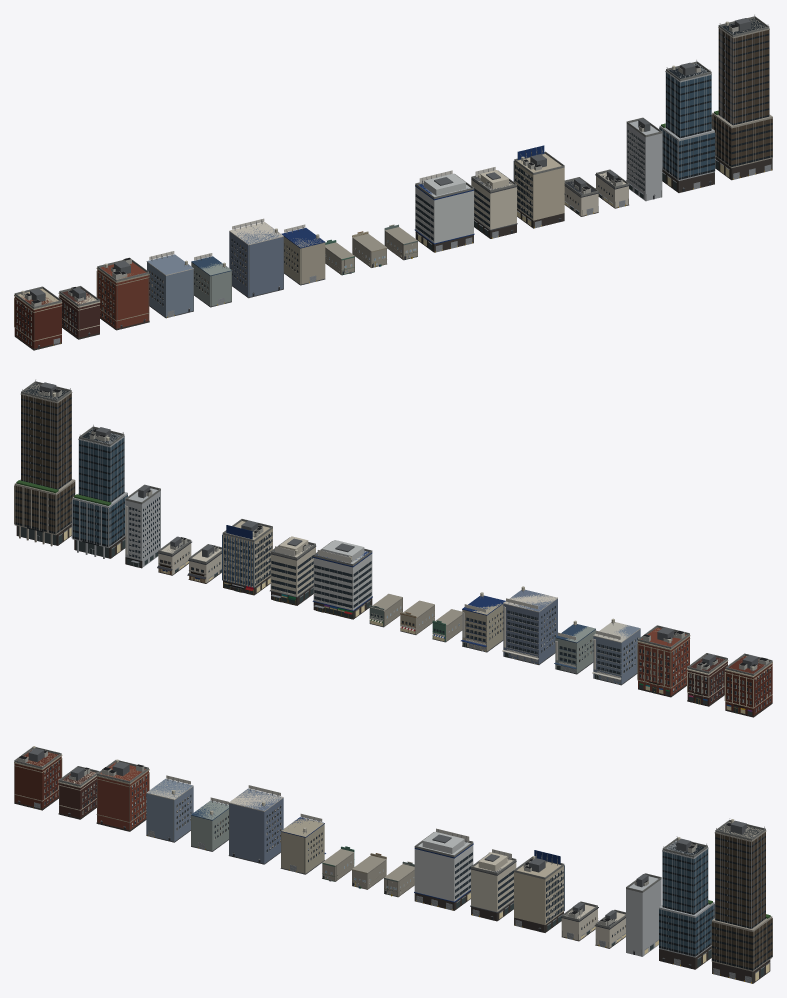
File: aizomefront.glb
The picture shows the model from 3 angles, top to bottom: view 1: azimuth 30°, elevation 25°; view 2: azimuth 150°, elevation 25°; view 3: azimuth 330°, elevation 25°; orthographic projection.
Parts seen in each view (by area): view 1: aizomefront_tower_b_body, aizomefront_tower_a_body, aizomefront_ribbon_a_body, aizomefront_tonya_c_body, aizomefront_seni_a_body, aizomefront_brick_c_body, aizomefront_hotel_a_body, aizomefront_ribbon_b_body, aizomefront_brick_a_body, aizomefront_tonya_a_body, aizomefront_tonya_d_body, aizomefront_brick_b_body (+6 smaller); view 2: aizomefront_tower_b_body, aizomefront_tower_a_body, aizomefront_ribbon_a_body, aizomefront_tonya_c_body, aizomefront_seni_a_body, aizomefront_brick_c_body, aizomefront_hotel_a_body, aizomefront_ribbon_b_body, aizomefront_brick_a_body, aizomefront_tonya_a_body, aizomefront_tonya_d_body, aizomefront_brick_b_body (+6 smaller); view 3: aizomefront_tower_b_body, aizomefront_tower_a_body, aizomefront_ribbon_a_body, aizomefront_tonya_c_body, aizomefront_seni_a_body, aizomefront_brick_c_body, aizomefront_ribbon_b_body, aizomefront_tonya_a_body, aizomefront_brick_a_body, aizomefront_hotel_a_body, aizomefront_tonya_d_body, aizomefront_brick_b_body (+6 smaller).
Part boxes in pixels (bbox=[...]): aizomefront_tower_b_body: bbox=[711, 14, 772, 180]; aizomefront_tower_a_body: bbox=[659, 59, 715, 192]; aizomefront_ribbon_a_body: bbox=[414, 170, 474, 252]; aizomefront_tonya_c_body: bbox=[229, 218, 283, 298]; aizomefront_seni_a_body: bbox=[513, 145, 564, 228]; aizomefront_brick_c_body: bbox=[96, 257, 149, 330]; aizomefront_hotel_a_body: bbox=[626, 117, 662, 201]; aizomefront_ribbon_b_body: bbox=[471, 167, 517, 238]; aizomefront_brick_a_body: bbox=[14, 286, 62, 350]; aizomefront_tonya_a_body: bbox=[146, 251, 193, 318]; aizomefront_tonya_d_body: bbox=[281, 224, 325, 285]; aizomefront_brick_b_body: bbox=[58, 286, 100, 339]; aizomefront_tower_b_body: bbox=[14, 379, 75, 546]; aizomefront_tower_a_body: bbox=[71, 424, 127, 558]; aizomefront_ribbon_a_body: bbox=[312, 540, 372, 619]; aizomefront_tonya_c_body: bbox=[502, 586, 557, 664]; aizomefront_seni_a_body: bbox=[222, 519, 272, 595]; aizomefront_brick_c_body: bbox=[637, 625, 690, 697]; aizomefront_hotel_a_body: bbox=[125, 484, 160, 568]; aizomefront_ribbon_b_body: bbox=[270, 536, 316, 605]; aizomefront_brick_a_body: bbox=[724, 653, 772, 717]; aizomefront_tonya_a_body: bbox=[592, 618, 640, 685]; aizomefront_tonya_d_body: bbox=[461, 592, 505, 652]; aizomefront_brick_b_body: bbox=[686, 653, 728, 706]; aizomefront_tower_b_body: bbox=[711, 818, 772, 983]; aizomefront_tower_a_body: bbox=[659, 836, 714, 969]; aizomefront_ribbon_a_body: bbox=[414, 828, 473, 910]; aizomefront_tonya_c_body: bbox=[228, 785, 283, 864]; aizomefront_seni_a_body: bbox=[514, 850, 564, 932]; aizomefront_brick_c_body: bbox=[96, 759, 149, 831]; aizomefront_ribbon_b_body: bbox=[470, 849, 516, 921]; aizomefront_tonya_a_body: bbox=[146, 775, 193, 842]; aizomefront_brick_a_body: bbox=[14, 746, 62, 810]; aizomefront_hotel_a_body: bbox=[626, 873, 661, 956]; aizomefront_tonya_d_body: bbox=[280, 813, 325, 874]; aizomefront_brick_b_body: bbox=[58, 766, 99, 819].
Size of the model in its own units: 448 by 86.2 by 23.37.
